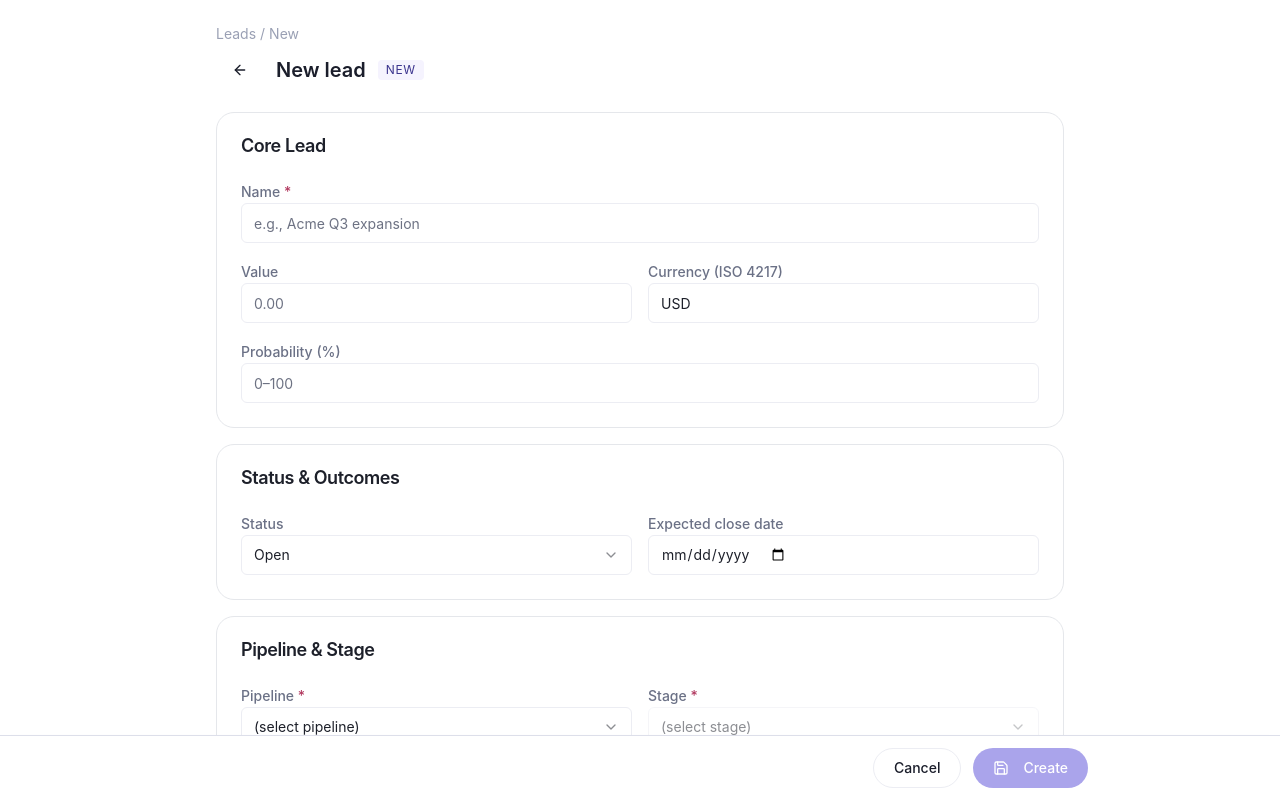
Test: KAN-938 — OpportunityForm › (5) Validation: empty name → required error
This screenshot has width=1280, height=800.
Note: Dirty via a non-name field so Save enables.
Type "50" into the number field labelled "Probability (%)" at (640, 383), box [241,363,1039,403]
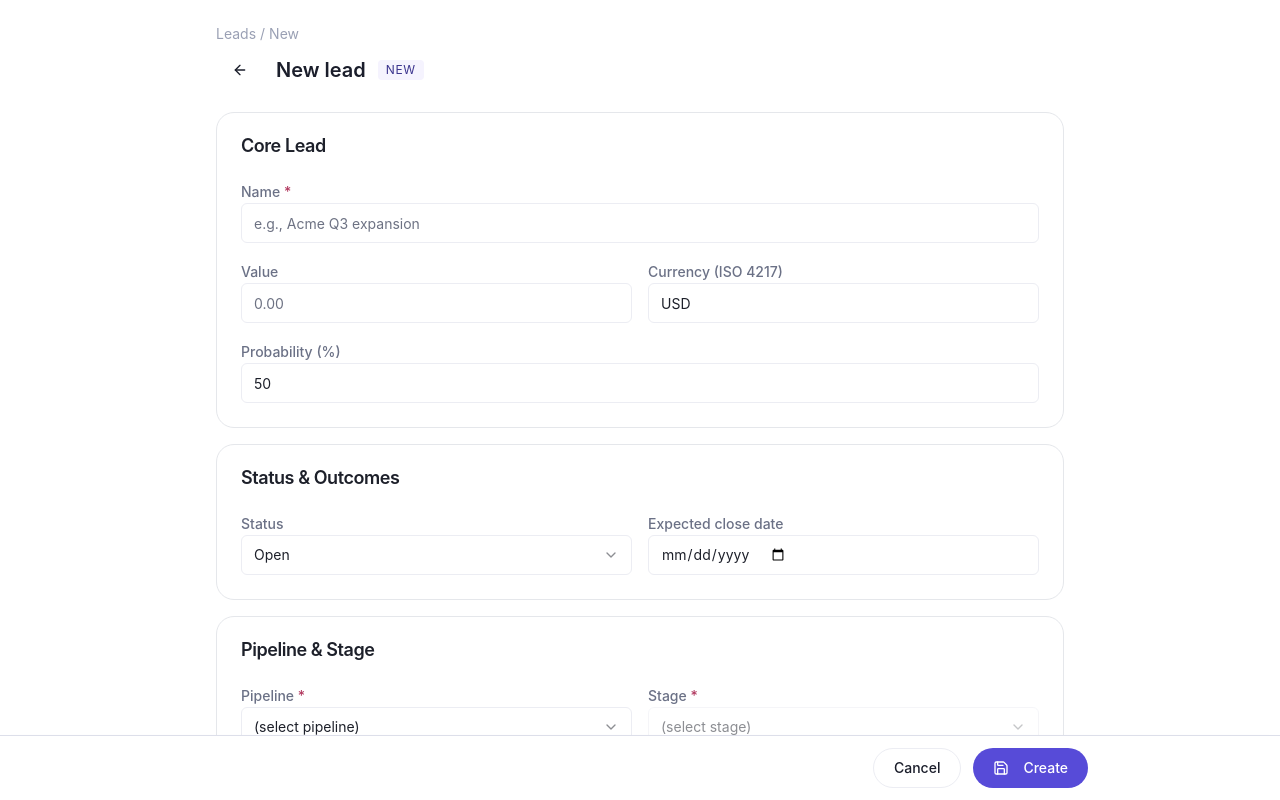
Click the button "Create" at (1031, 768), box [973,748,1088,788]
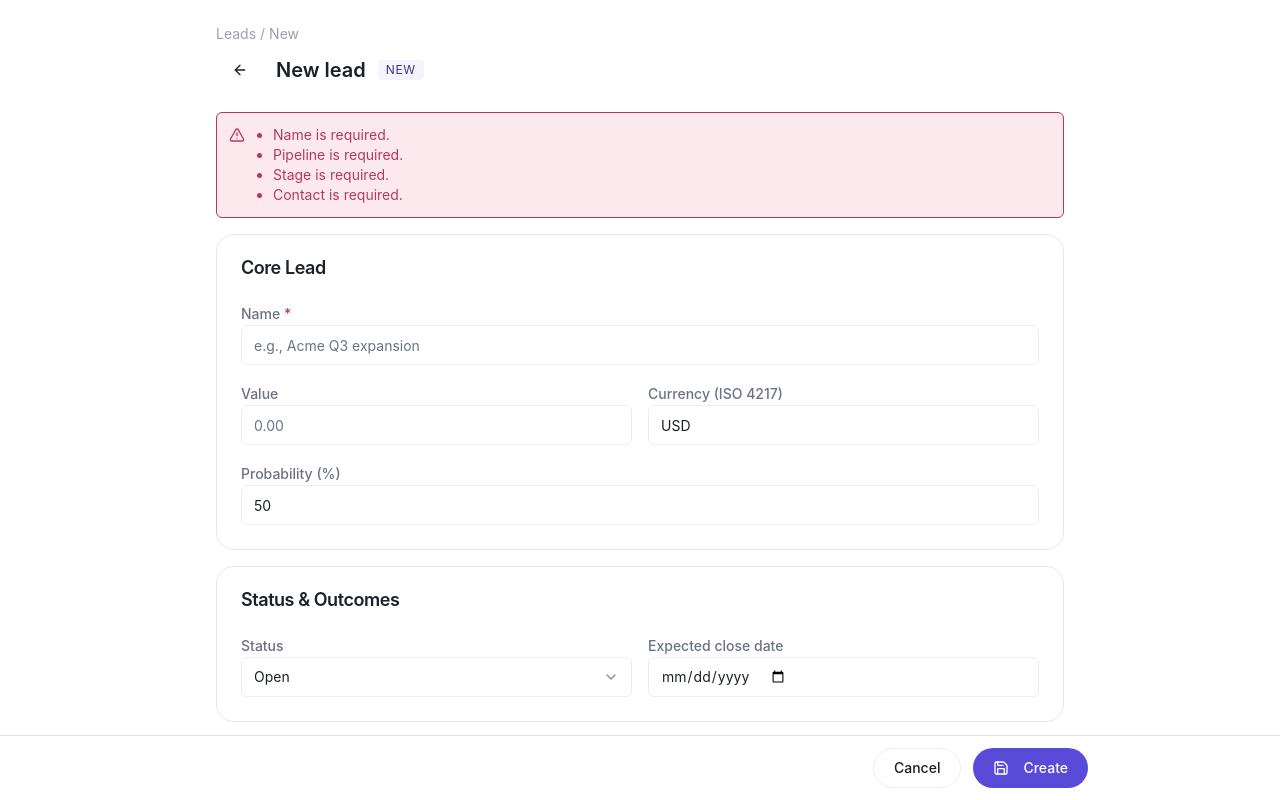
Now the list item "Name is required." is shown, box [273,125,403,145]
